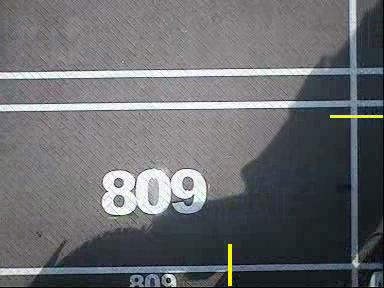groundmarker_2: (194, 47, 232, 98), (196, 232, 234, 283)
